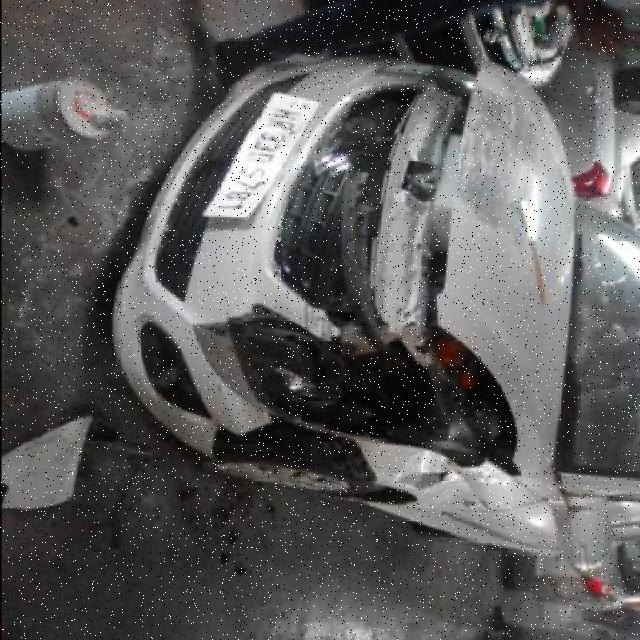damage: (209, 68, 516, 481), (459, 70, 542, 256), (366, 448, 496, 515)
